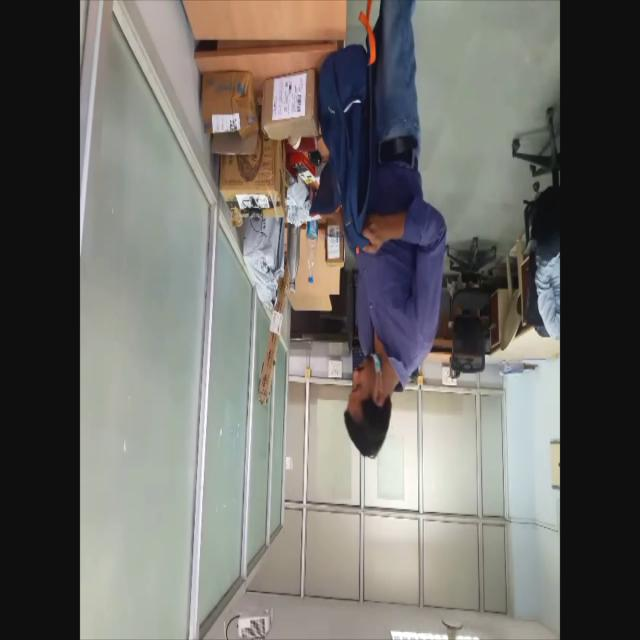shoplifting: (313, 2, 449, 468)
